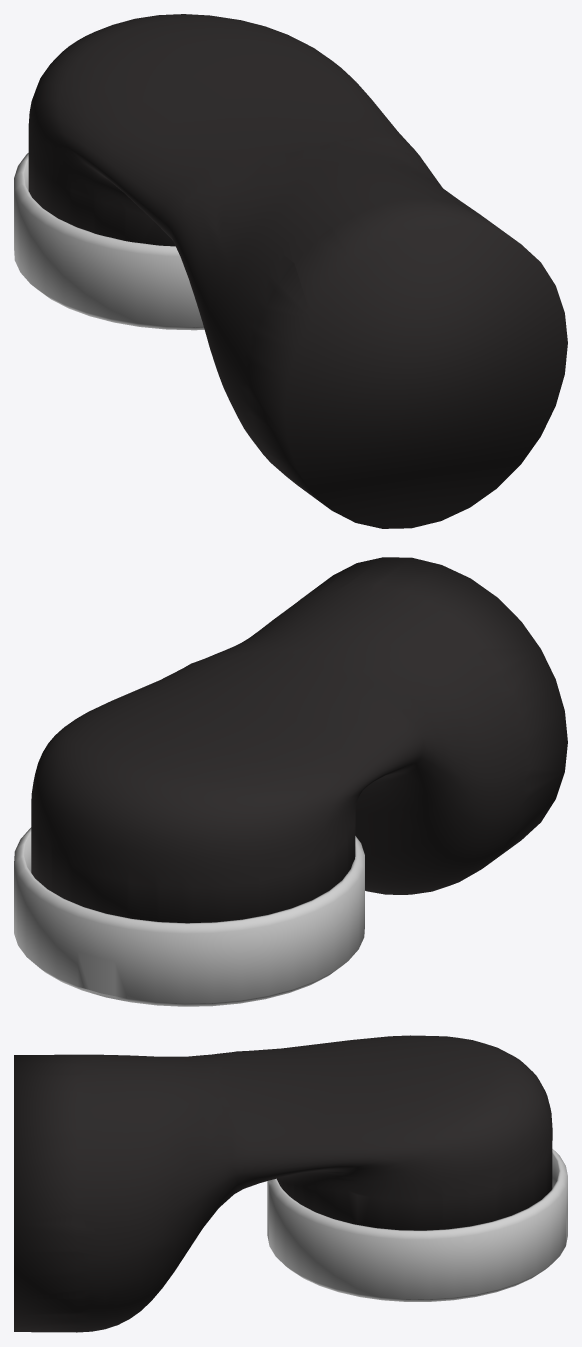
File: mico_link_1.dae
3 renders of one model, top to bottom at view 1: azimuth 30°, elevation 25°; view 2: azimuth 150°, elevation 25°; view 3: azimuth 270°, elevation 25°, orthographic. The views are drawn at different scales.
Visible parts, largest first — view 1: Mico_very_simplified_-_Link_-_Shoulder_Mico-1, Shoulder_Ring_Link; view 2: Mico_very_simplified_-_Link_-_Shoulder_Mico-1, Shoulder_Ring_Link; view 3: Mico_very_simplified_-_Link_-_Shoulder_Mico-1, Shoulder_Ring_Link.
Boxes of the visible parts, left/top/right/bottom form: Mico_very_simplified_-_Link_-_Shoulder_Mico-1: left=28, top=14, right=567, bottom=528; Shoulder_Ring_Link: left=14, top=153, right=204, bottom=330; Mico_very_simplified_-_Link_-_Shoulder_Mico-1: left=31, top=557, right=567, bottom=923; Shoulder_Ring_Link: left=14, top=827, right=364, bottom=1006; Mico_very_simplified_-_Link_-_Shoulder_Mico-1: left=14, top=1035, right=552, bottom=1332; Shoulder_Ring_Link: left=267, top=1149, right=567, bottom=1301.
Size of the model in its own units: 0.0889 by 0.0826 by 0.1644.
2 materials, 2 textured.
